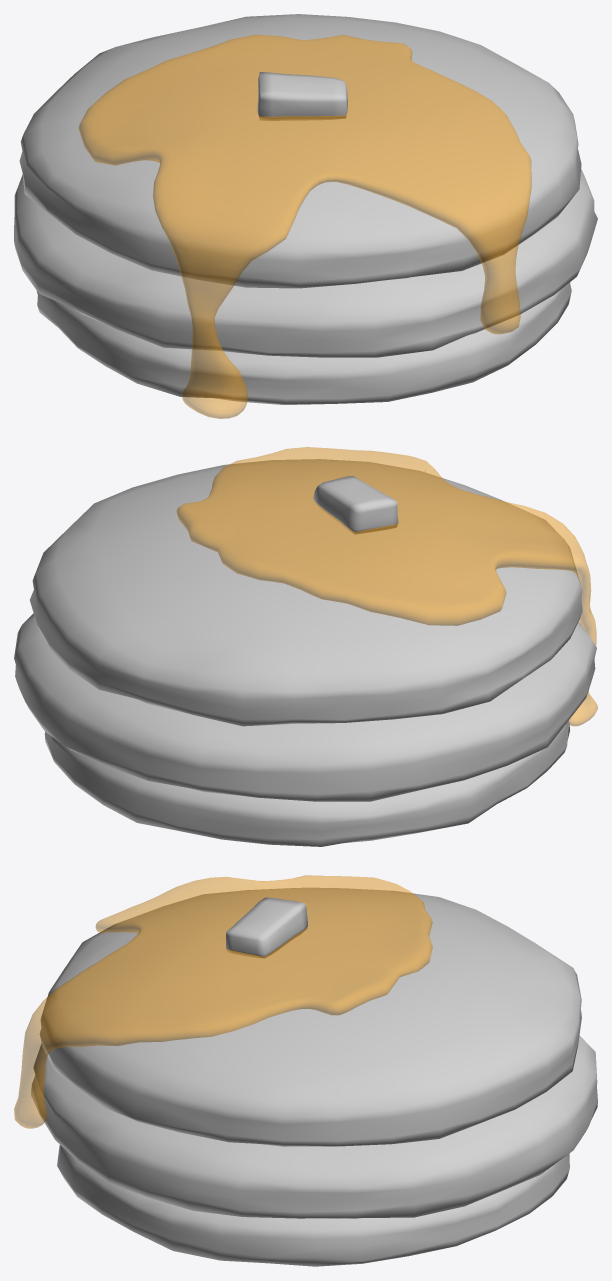
3 renders of one model, top to bottom at view 1: azimuth 30°, elevation 25°; view 2: azimuth 150°, elevation 25°; view 3: azimuth 270°, elevation 25°, orthographic. The views are drawn at different scales.
Parts seen in each view (by area): view 1: Pancake_low.003, Group8824, Pancake_low.002, Pancake_low.001, Butter_low.001; view 2: Pancake_low.003, Pancake_low.002, Group8824, Pancake_low.001, Butter_low.001; view 3: Pancake_low.003, Group8824, Pancake_low.002, Pancake_low.001, Butter_low.001.
Boxes of the visible parts, x1=… form: Pancake_low.003: x1=19, y1=14, x2=581, y2=288; Group8824: x1=78, y1=34, x2=531, y2=418; Pancake_low.002: x1=14, y1=169, x2=597, y2=357; Pancake_low.001: x1=37, y1=282, x2=571, y2=404; Butter_low.001: x1=257, y1=72, x2=347, y2=120; Pancake_low.003: x1=30, y1=459, x2=582, y2=726; Pancake_low.002: x1=14, y1=613, x2=596, y2=801; Group8824: x1=176, y1=447, x2=597, y2=726; Pancake_low.001: x1=44, y1=720, x2=570, y2=846; Butter_low.001: x1=313, y1=476, x2=398, y2=534; Pancake_low.003: x1=40, y1=887, x2=581, y2=1146; Group8824: x1=14, y1=875, x2=432, y2=1128; Pancake_low.002: x1=31, y1=1035, x2=597, y2=1218; Pancake_low.001: x1=57, y1=1144, x2=569, y2=1266; Butter_low.001: x1=226, y1=897, x2=307, y2=958.
Bounding box in the file's own units: 137 × 64.38 × 142.
